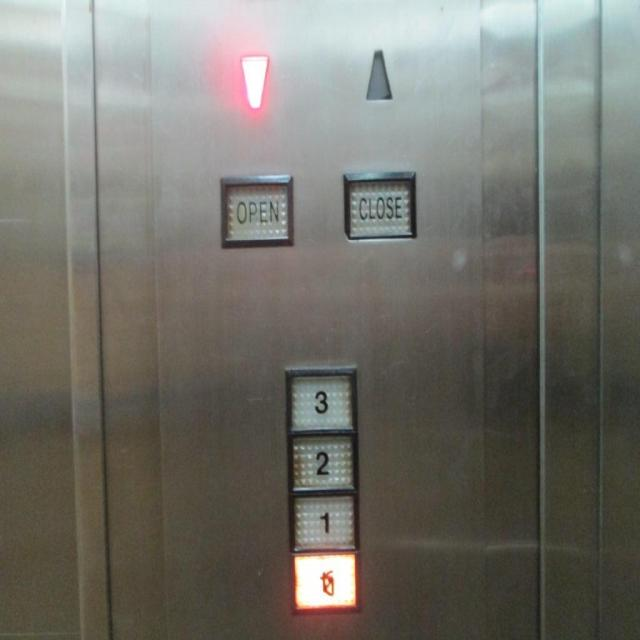1: (285, 485, 361, 559)
2: (282, 425, 361, 498)
3: (281, 362, 361, 438)
text_close door: (340, 164, 420, 244)
text_open door: (214, 168, 298, 252)
unknown: (286, 544, 363, 617)
